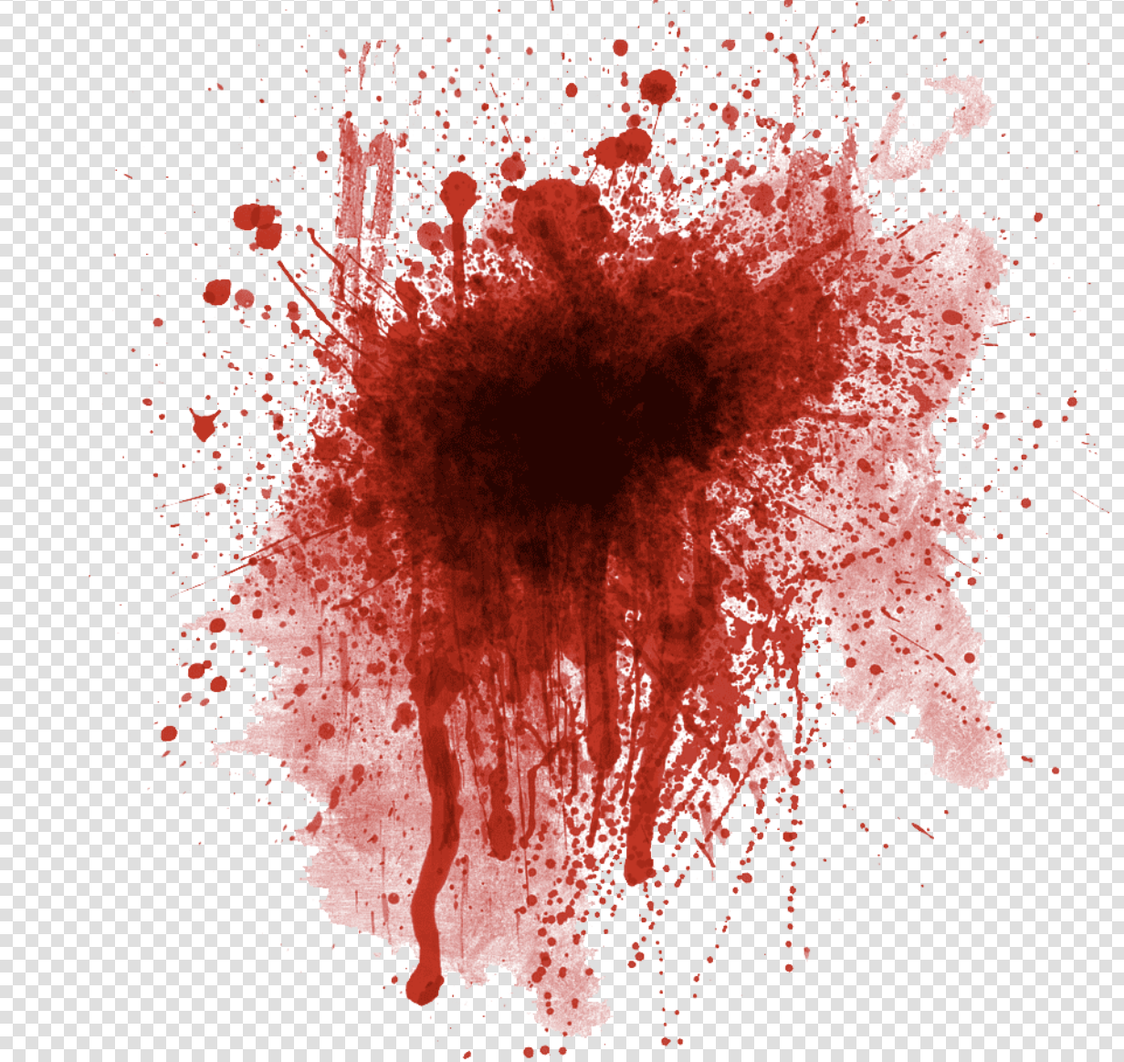blood_22.png: (117, 18, 1084, 1062)
